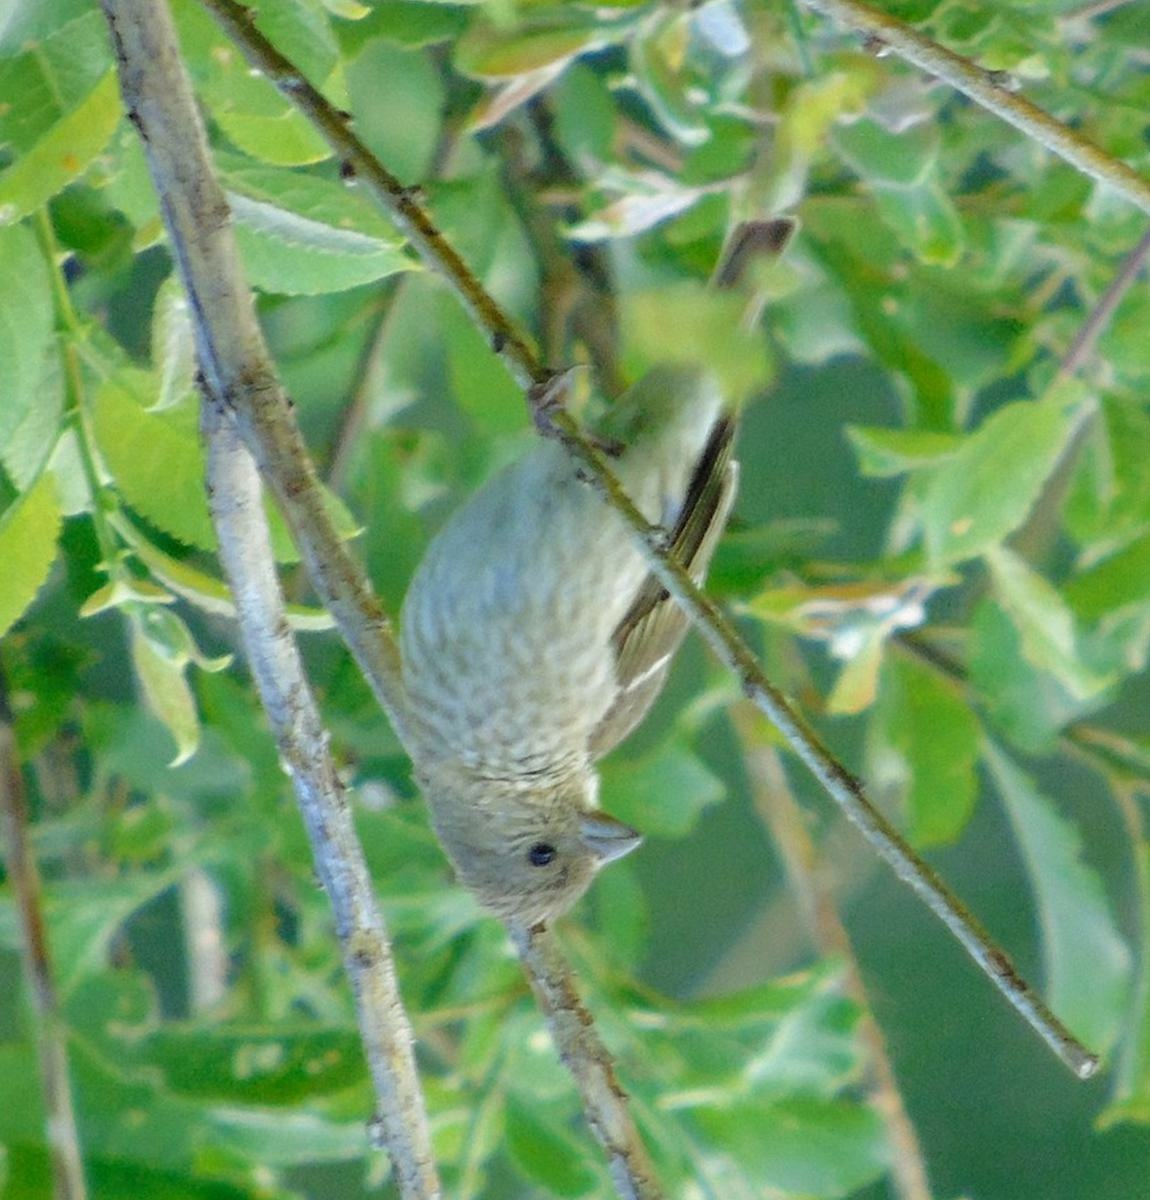rosefinch: (402, 172, 828, 963)
